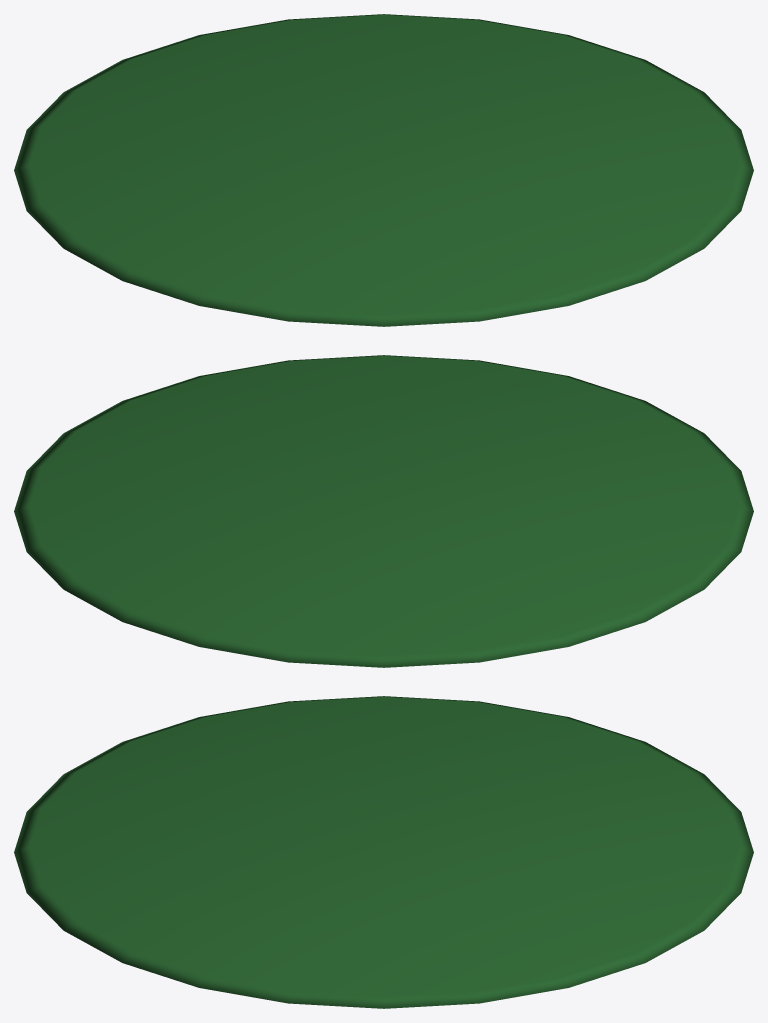
The model's file is tile_grove.glb.
The picture shows the model from 3 angles, top to bottom: view 1: azimuth 30°, elevation 25°; view 2: azimuth 150°, elevation 25°; view 3: azimuth 270°, elevation 25°; orthographic projection.
Parts seen in each view (by area): view 1: tile_grove.glb; view 2: tile_grove.glb; view 3: tile_grove.glb.
Part boxes in pixels (x1=…): tile_grove.glb: x1=14, y1=14, x2=753, y2=326; tile_grove.glb: x1=14, y1=355, x2=753, y2=667; tile_grove.glb: x1=14, y1=696, x2=753, y2=1008.
Size of the model in its own units: 9.6 by 0.16 by 9.6.
1 material, 1 textured.
